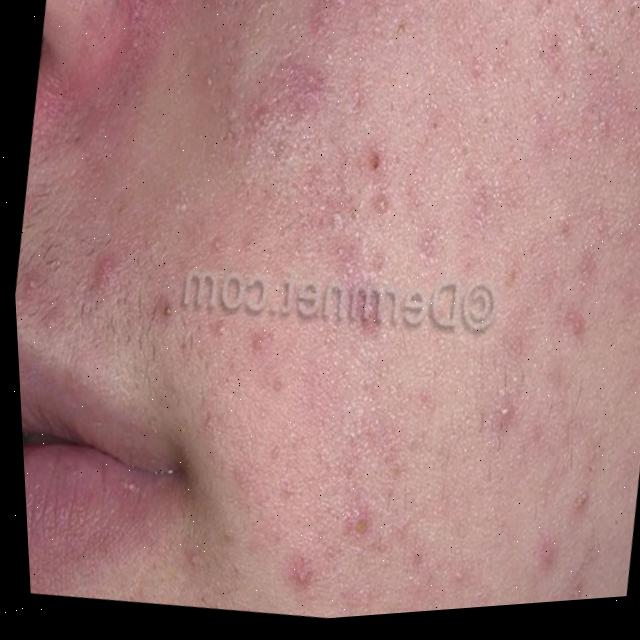Acne: (118, 0, 640, 601)
